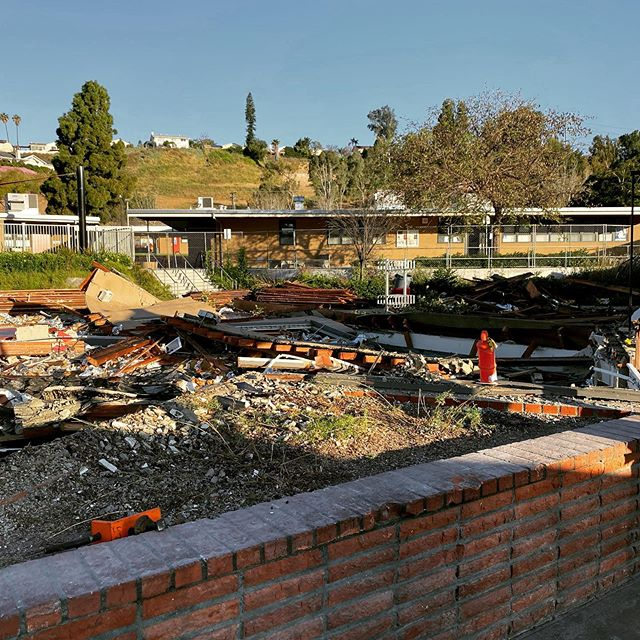building: (146, 188, 640, 270)
sky: (9, 1, 640, 129)
trash: (1, 259, 621, 495)
tree: (408, 98, 591, 270), (44, 80, 129, 217)
